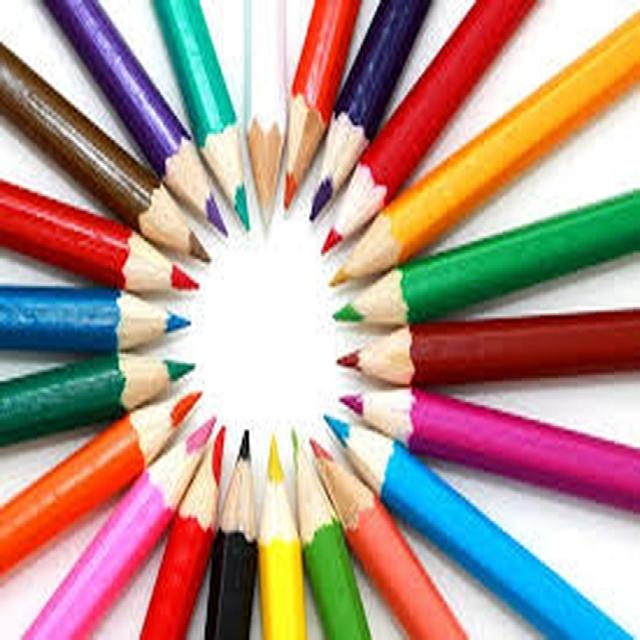pen: (313, 8, 637, 303), (307, 382, 640, 640), (320, 152, 640, 340), (0, 26, 223, 292), (0, 362, 209, 593), (133, 0, 263, 256), (122, 395, 244, 640), (258, 404, 315, 640)
